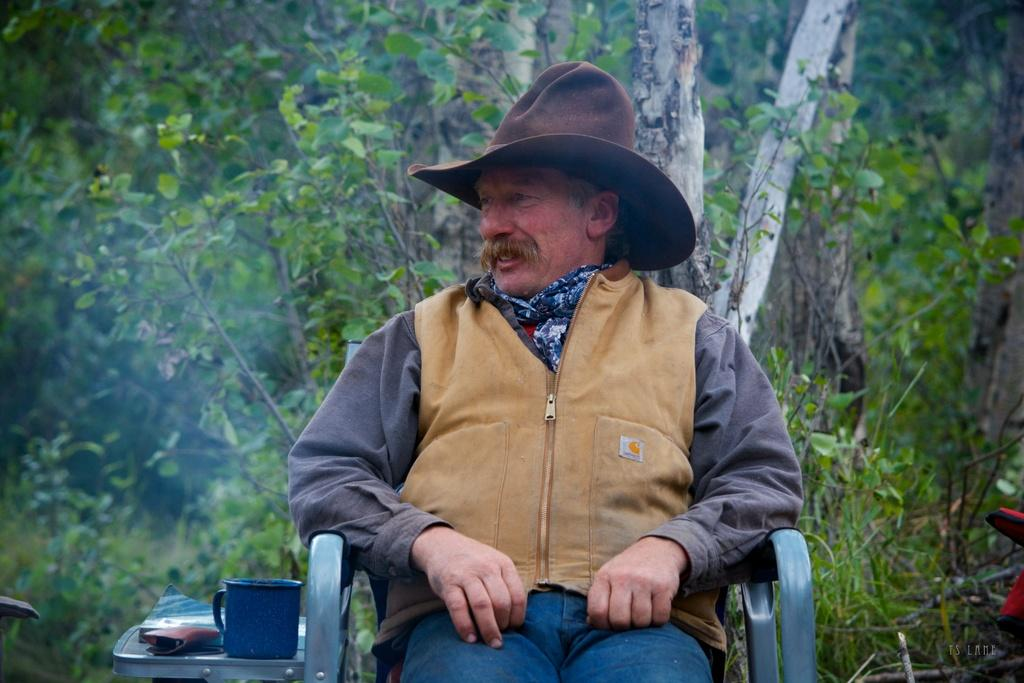Hat: (409, 63, 698, 273)
